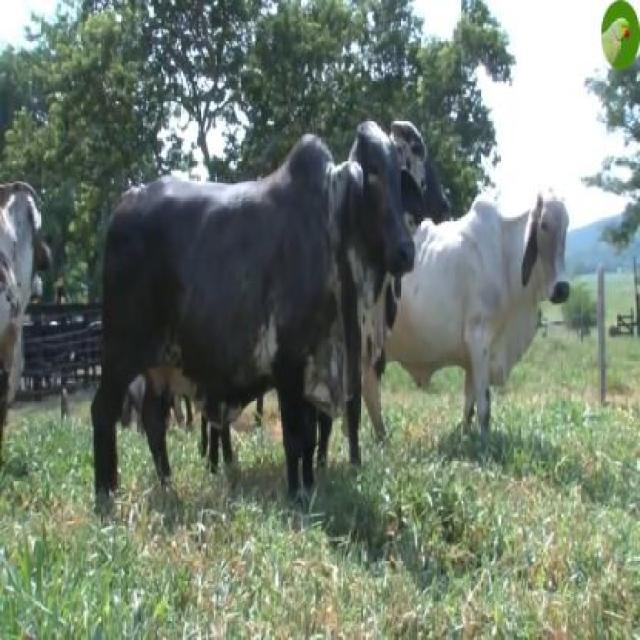Cow: (94, 121, 417, 514), (432, 192, 574, 443)
